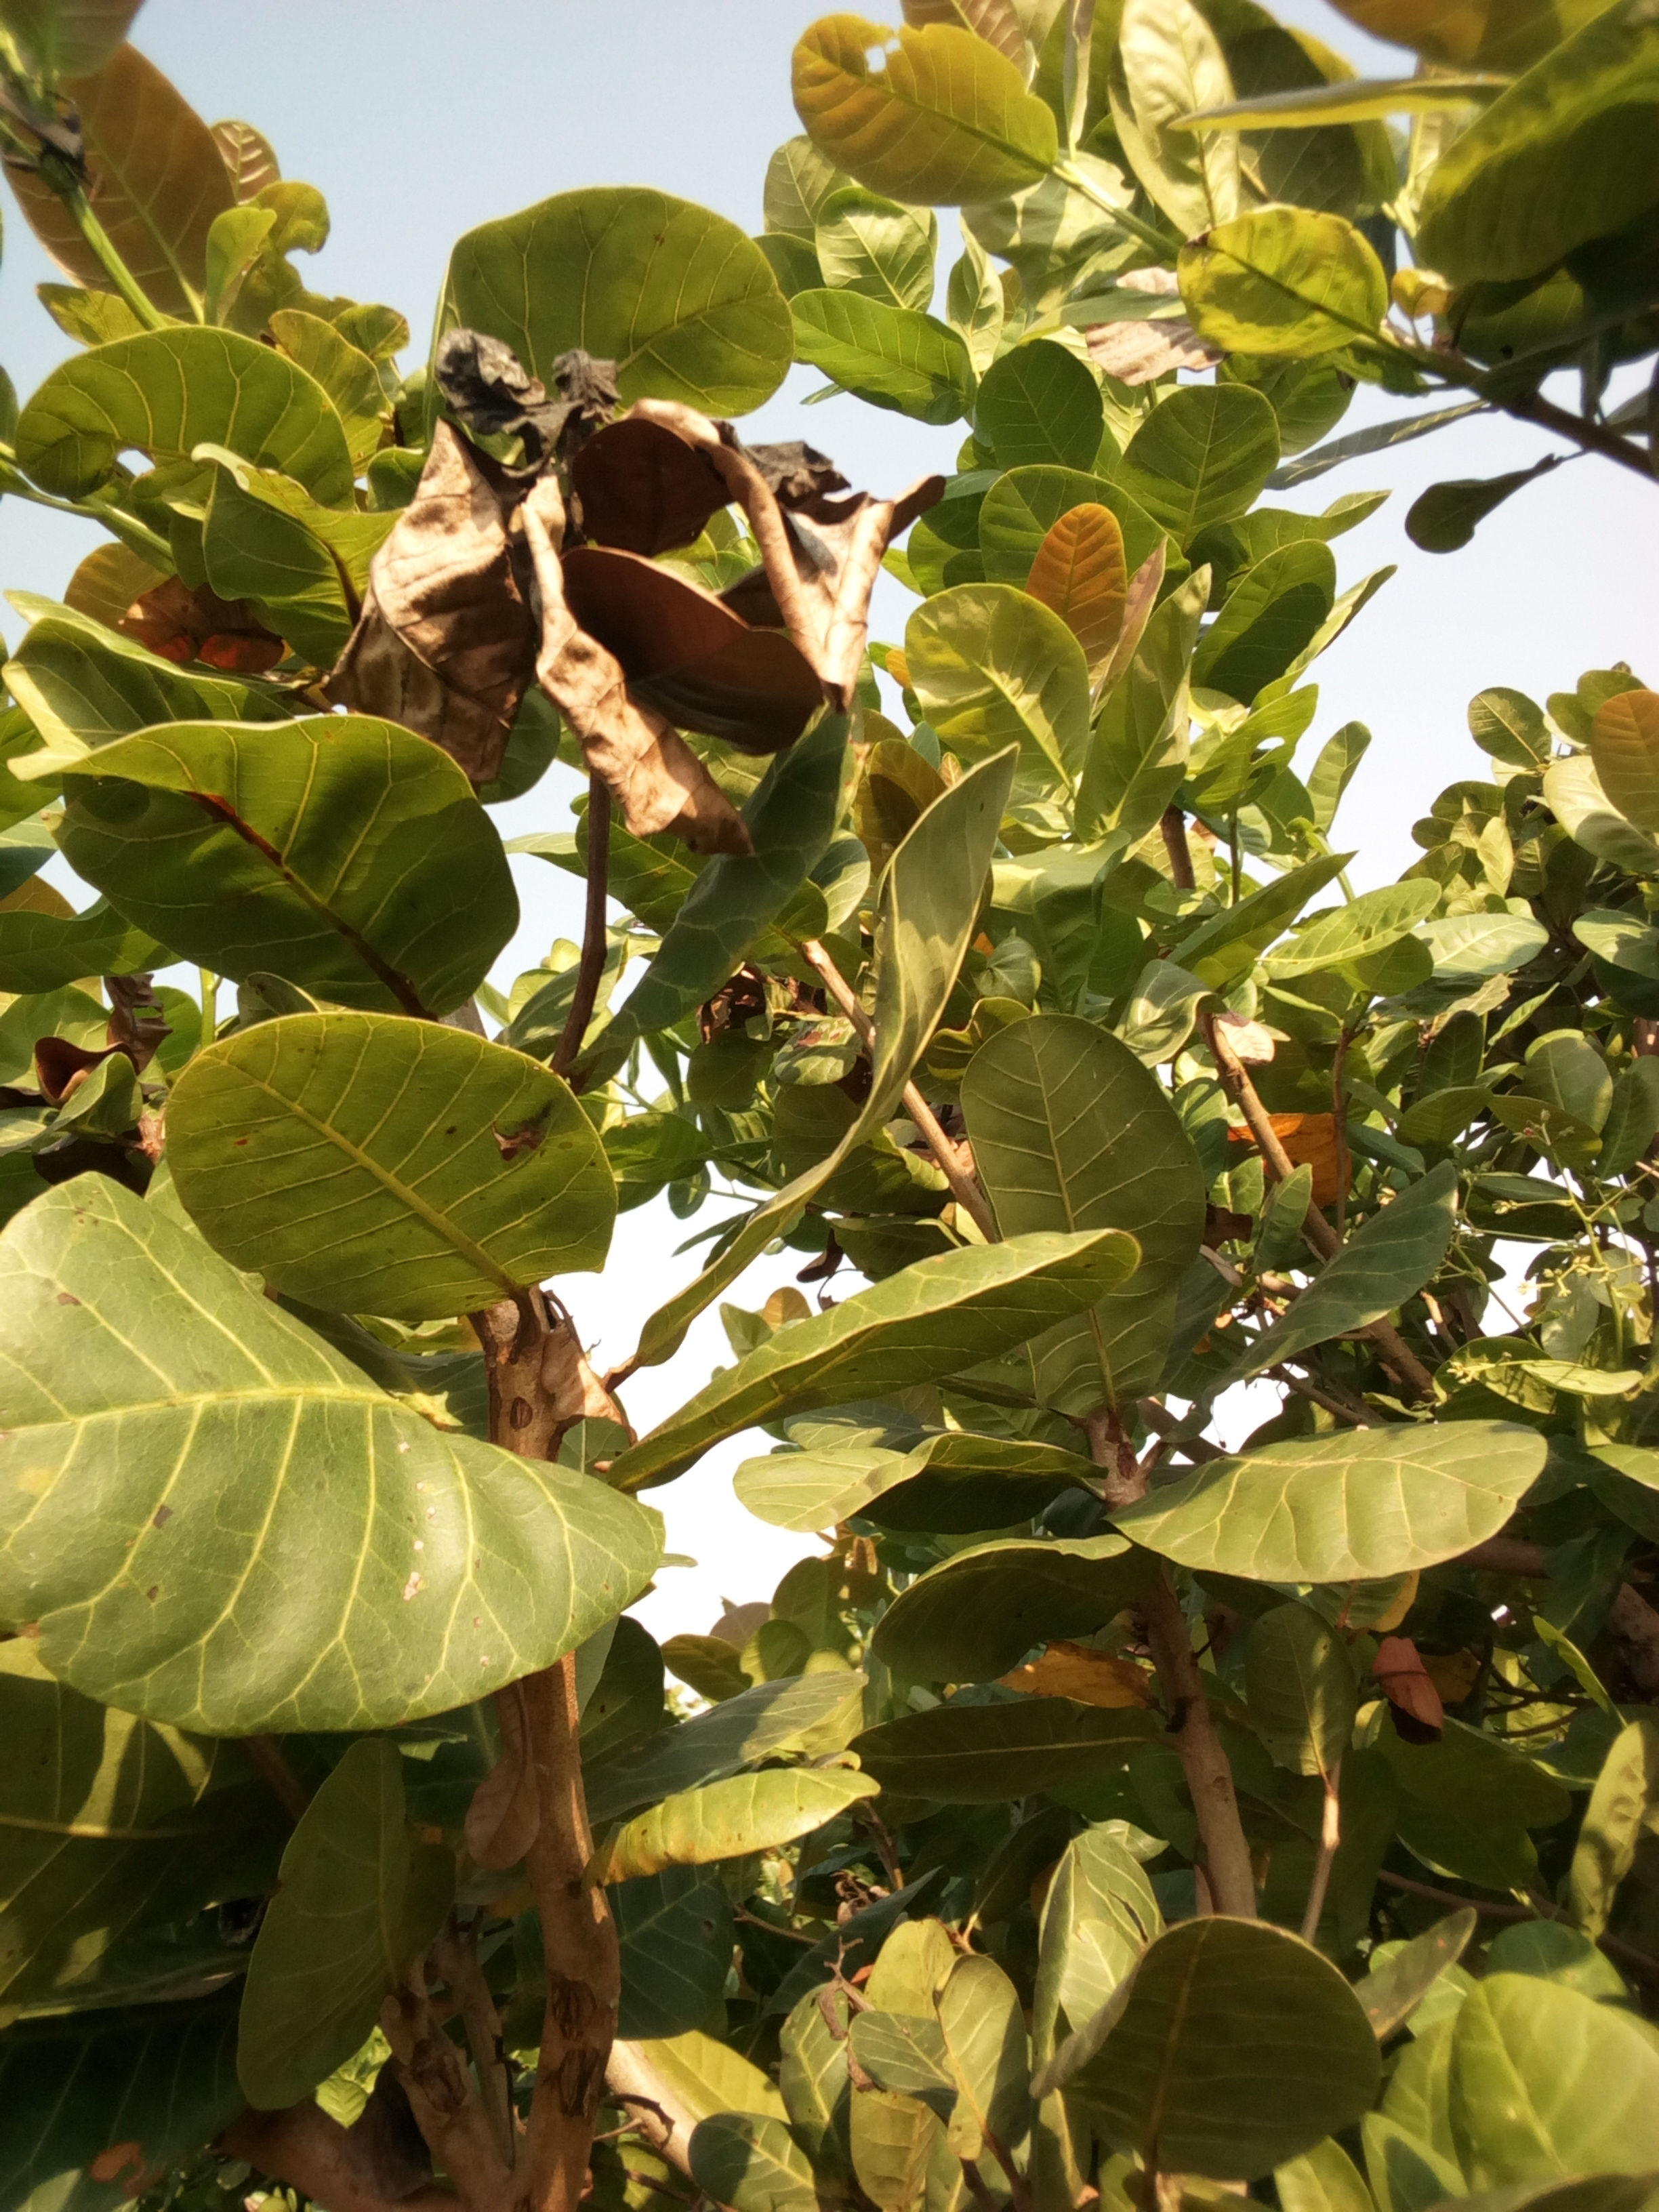Dessèchement des bourgeons: (403, 327, 850, 787), (9, 80, 105, 181)
